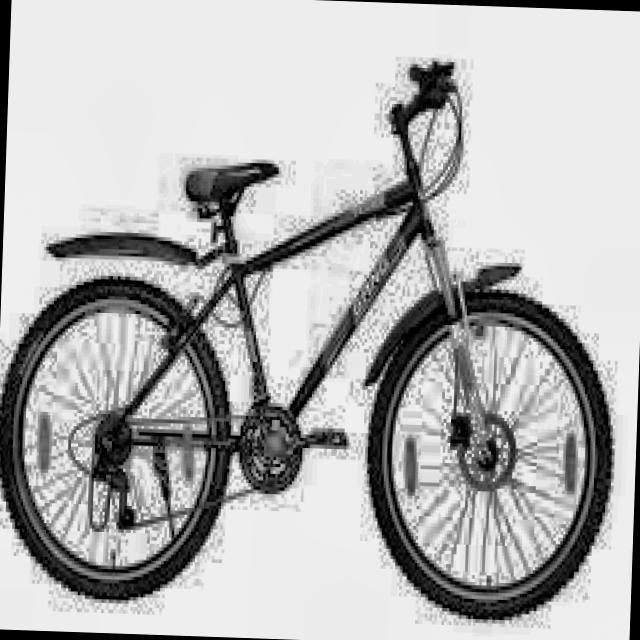bicycle: (0, 39, 628, 624)
